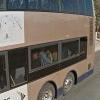Bus: (4, 3, 97, 99)
